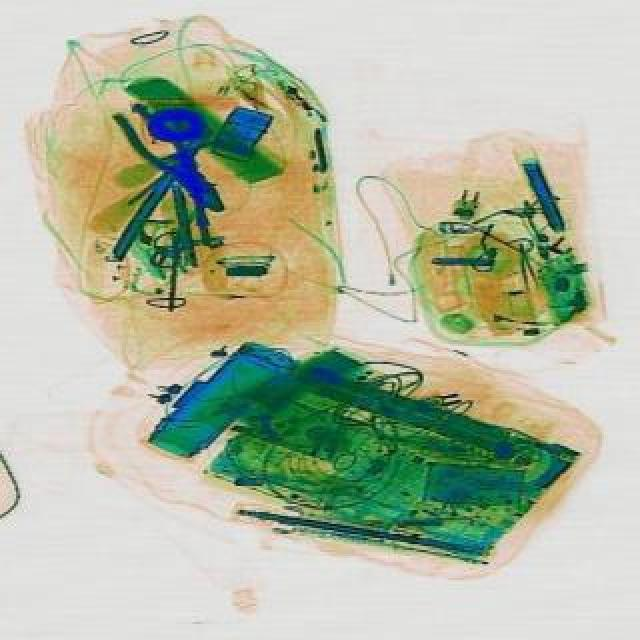wrench: (104, 92, 240, 228)
